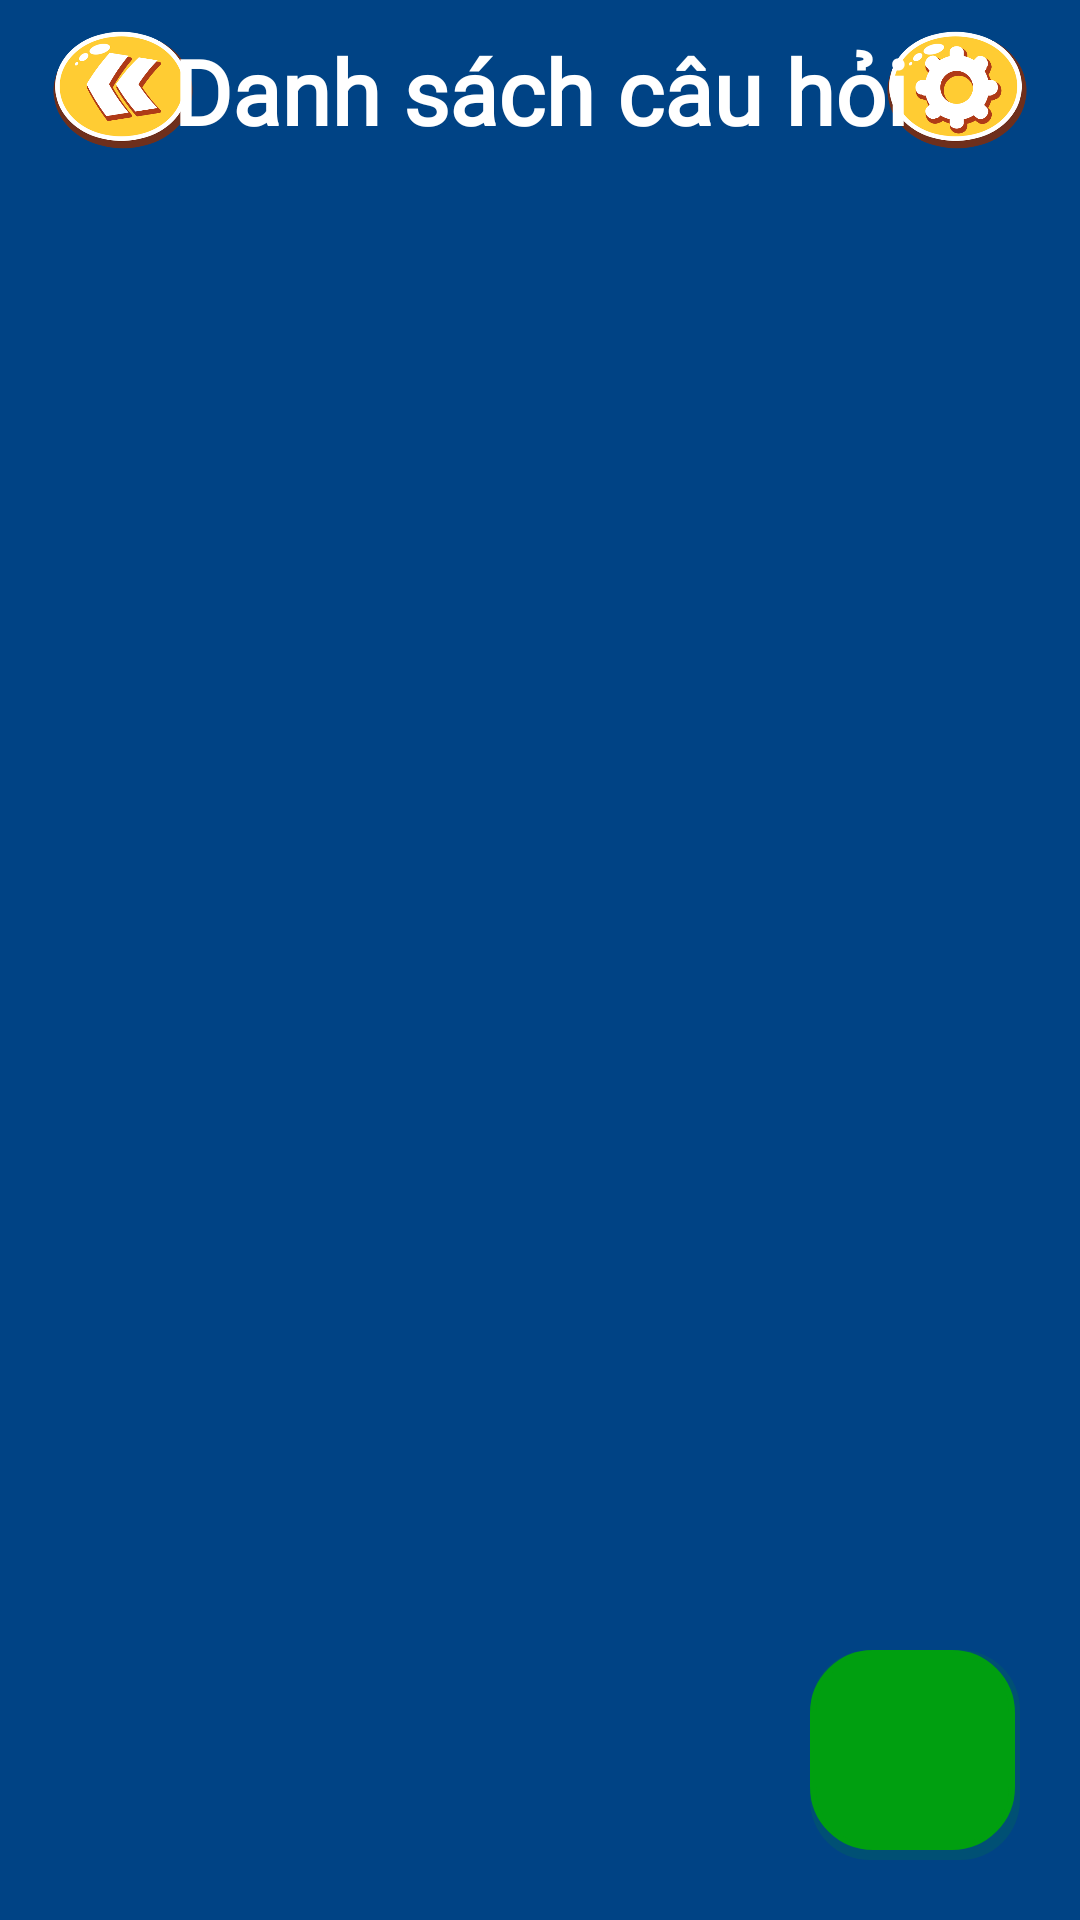

Named icons in this screenshot (1080 × 1920) and their bounding boxes, (x1, y1, x2, y2):
previous: (53, 31, 198, 149)
setting: (887, 31, 1027, 149)
